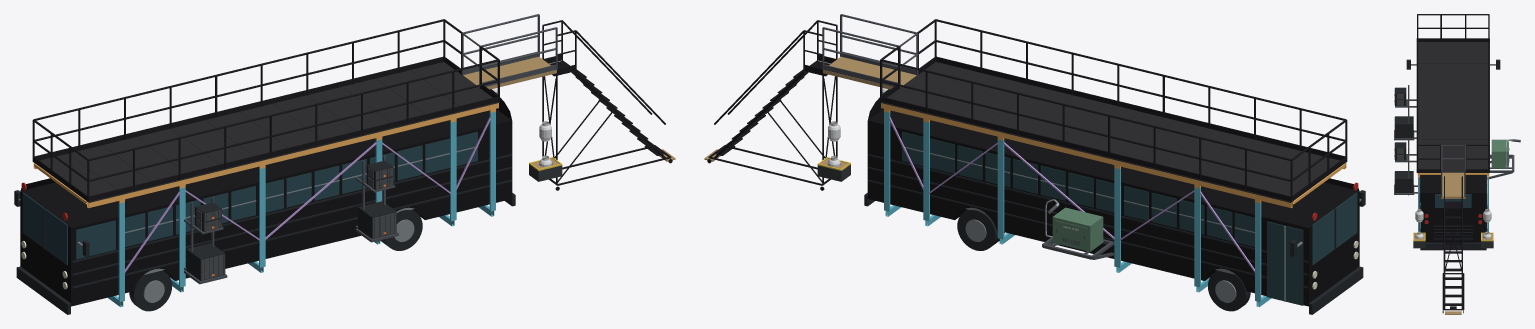
File: baaabs-subframe-study-v5.glb
3 views of the same model, side by side, from view 1: azimuth 30°, elevation 25°; view 2: azimuth 150°, elevation 25°; view 3: azimuth 270°, elevation 25° (orthographic). The views are drawn at different scales.
Visible parts, largest first — view 1: Bus__Body_96in_wide, Bus__Roof_126in_high, Toe_board_-1, Toe_board_1, Dancefloor_section_11, Dancefloor_section_08, Dancefloor_section_04, Dancefloor_section_05, Dancefloor_section_10, Dancefloor_section_06, Dancefloor_section_12, Dancefloor_section_07 (+39 smaller); view 2: Bus__Body_96in_wide, Bus__Entrance_door, Toe_board_1, Toe_board_-1, Bus__Roof_126in_high, Dancefloor_section_11, Dancefloor_section_08, Dancefloor_section_04, Dancefloor_section_05, Dancefloor_section_10, Dancefloor_section_06, Dancefloor_section_12 (+41 smaller); view 3: Bus__Body_96in_wide, Bus__Rear_engine_hatch, Dancefloor_section_02, Dancefloor_section_04, Dancefloor_section_05, Dancefloor_section_03, Dancefloor_section_11, Dancefloor_section_01, Dancefloor_section_06, Dancefloor_section_07, Dancefloor_section_08, Dancefloor_section_09 (+21 smaller).
Boxes of the visible parts, x1=… form: Bus__Body_96in_wide: x1=20, y1=109, x2=512, y2=306; Bus__Roof_126in_high: x1=20, y1=89, x2=511, y2=226; Toe_board_-1: x1=89, y1=96, x2=498, y2=201; Toe_board_1: x1=34, y1=57, x2=443, y2=160; Dancefloor_section_11: x1=376, y1=70, x2=465, y2=119; Dancefloor_section_08: x1=273, y1=95, x2=362, y2=144; Dancefloor_section_04: x1=137, y1=128, x2=225, y2=177; Dancefloor_section_05: x1=171, y1=120, x2=259, y2=169; Dancefloor_section_10: x1=342, y1=78, x2=430, y2=127; Dancefloor_section_06: x1=205, y1=112, x2=294, y2=161; Dancefloor_section_12: x1=410, y1=62, x2=499, y2=110; Dancefloor_section_07: x1=239, y1=103, x2=328, y2=152; Bus__Body_96in_wide: x1=867, y1=109, x2=1359, y2=306; Bus__Entrance_door: x1=1267, y1=221, x2=1303, y2=305; Toe_board_1: x1=881, y1=96, x2=1290, y2=201; Toe_board_-1: x1=936, y1=57, x2=1345, y2=160; Bus__Roof_126in_high: x1=868, y1=89, x2=1359, y2=226; Dancefloor_section_11: x1=914, y1=70, x2=1003, y2=119; Dancefloor_section_08: x1=1017, y1=95, x2=1106, y2=144; Dancefloor_section_04: x1=1154, y1=128, x2=1242, y2=177; Dancefloor_section_05: x1=1120, y1=120, x2=1208, y2=169; Dancefloor_section_10: x1=949, y1=78, x2=1037, y2=127; Dancefloor_section_06: x1=1085, y1=112, x2=1174, y2=161; Dancefloor_section_12: x1=880, y1=62, x2=969, y2=110; Bus__Body_96in_wide: x1=1420, y1=175, x2=1486, y2=242; Bus__Rear_engine_hatch: x1=1429, y1=220, x2=1477, y2=242; Dancefloor_section_02: x1=1416, y1=52, x2=1489, y2=63; Dancefloor_section_04: x1=1416, y1=74, x2=1489, y2=85; Dancefloor_section_05: x1=1416, y1=85, x2=1489, y2=96; Dancefloor_section_03: x1=1416, y1=63, x2=1489, y2=74; Dancefloor_section_11: x1=1416, y1=150, x2=1489, y2=161; Dancefloor_section_01: x1=1416, y1=42, x2=1489, y2=52; Dancefloor_section_06: x1=1416, y1=96, x2=1489, y2=106; Dancefloor_section_07: x1=1416, y1=107, x2=1489, y2=117; Dancefloor_section_08: x1=1416, y1=118, x2=1489, y2=128; Dancefloor_section_09: x1=1416, y1=129, x2=1489, y2=139.
Size of what is drawn, in the model's own units: 17.42 by 4.53 by 4.67.
